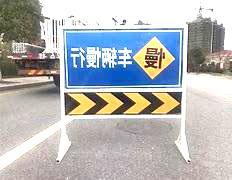sign: (63, 29, 184, 119)
